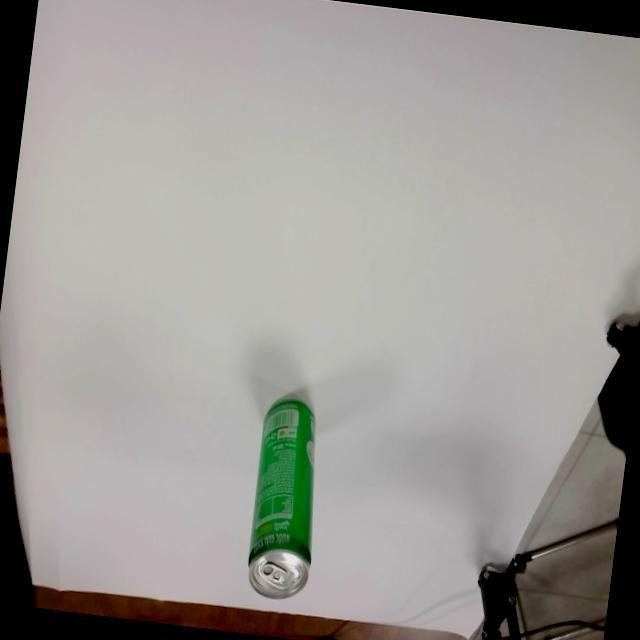debris: (240, 394, 330, 604)
